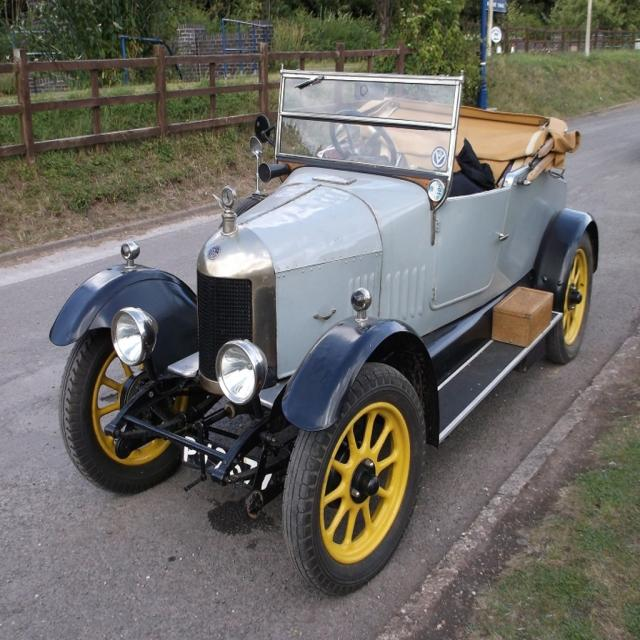car: (51, 75, 592, 586)
